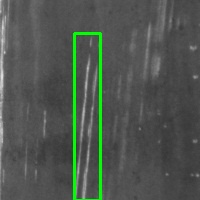scratches: (74, 33, 100, 200)
